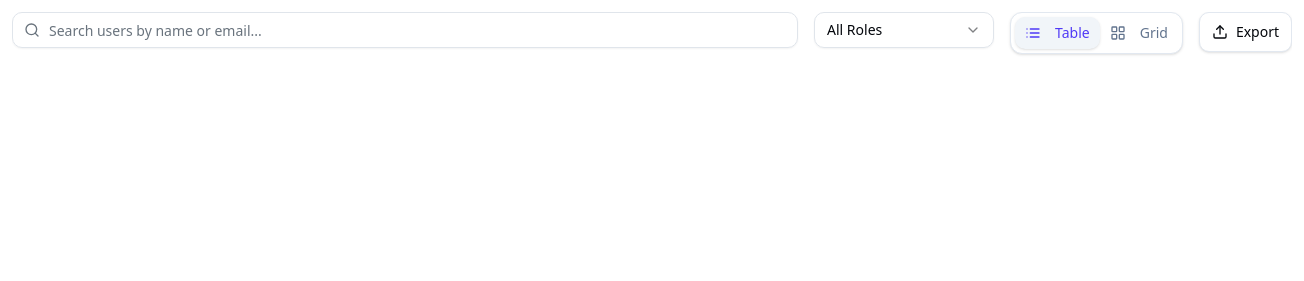
Head Office user directory › searches by name and email
This screenshot has width=1304, height=281.
Type "user7@" into the field with placeholder "Search users by name or email..." at (405, 30), box [12, 12, 798, 48]
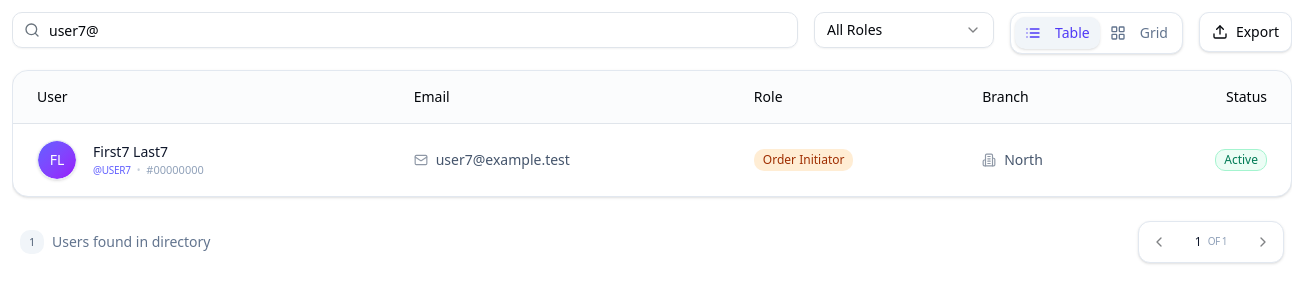
Expected: the text "First7 Last7" is shown, [93, 142, 168, 161]
Replace the text in the field with placeholder "Search users by name or email..." with "First13" at (405, 30), box [12, 12, 798, 48]
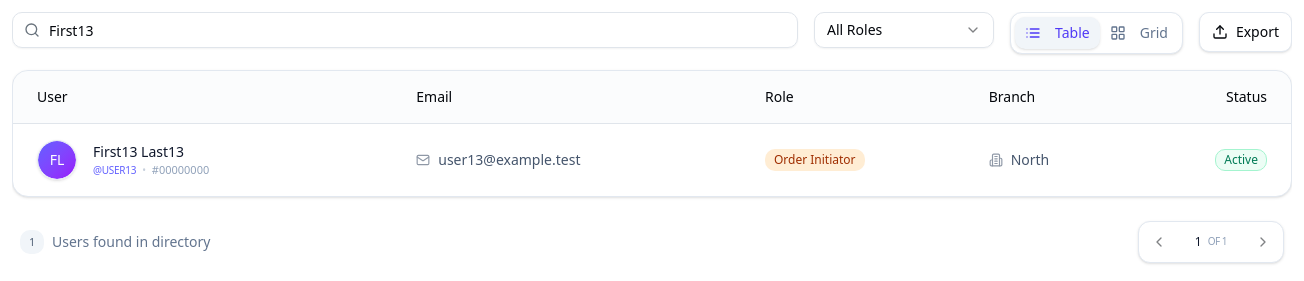
Expected: the text "First13 Last13" is shown, [93, 142, 184, 161]
